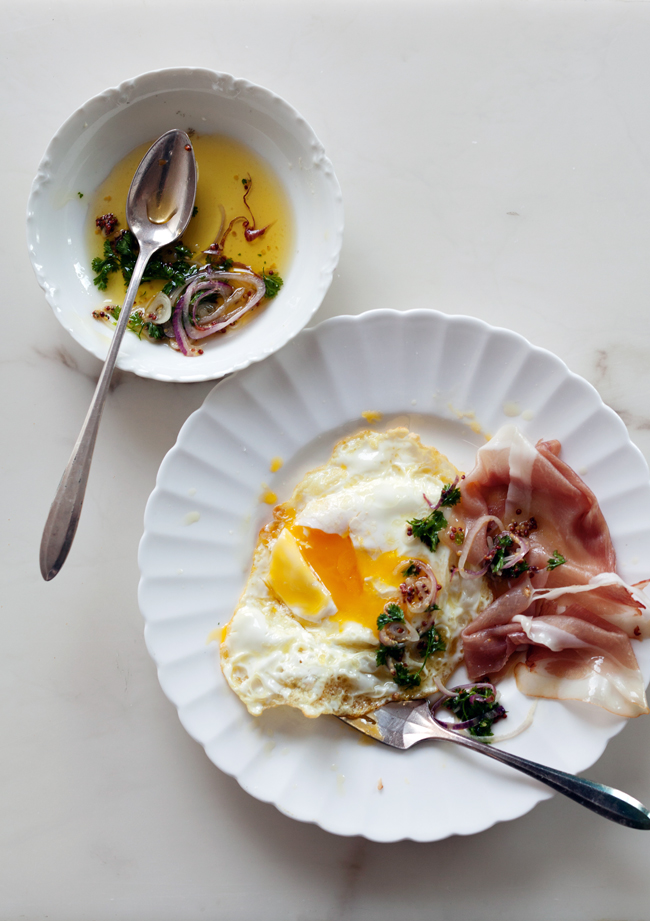fried egg: (265, 454, 403, 688)
